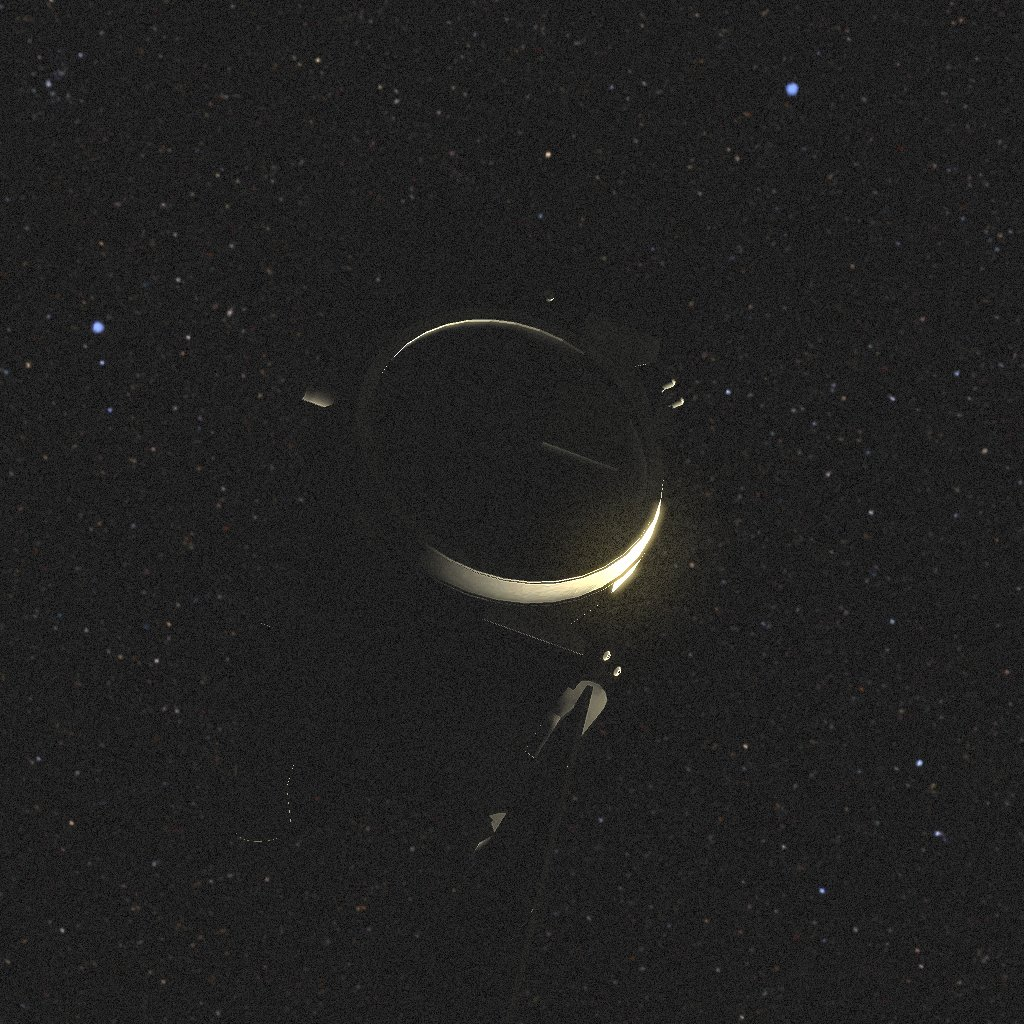proba_3_csc: (229, 198, 686, 1024)
